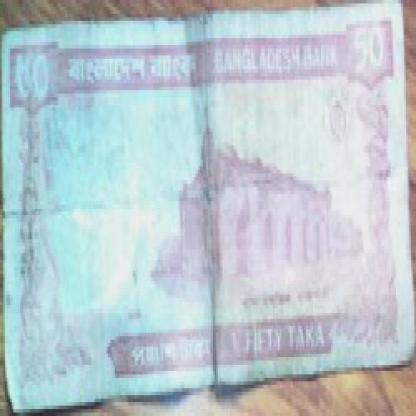Fifty taka: (338, 17, 392, 87), (10, 42, 60, 100)
